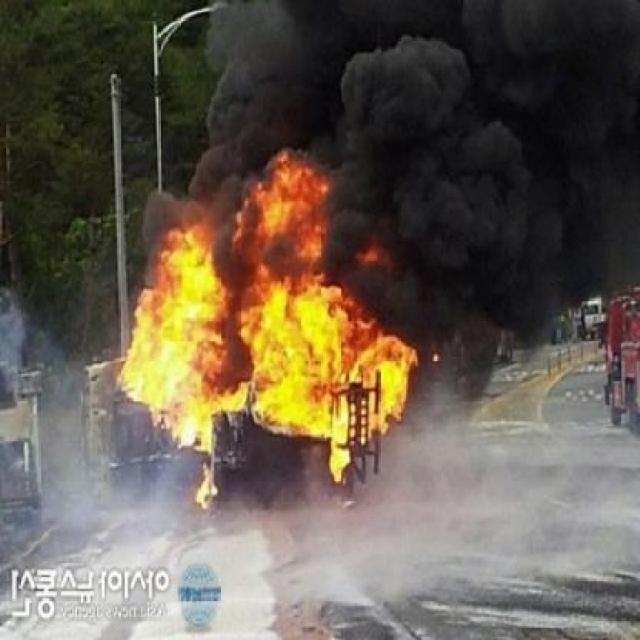Fire: (96, 210, 483, 506)
Smoke: (357, 11, 622, 228)
